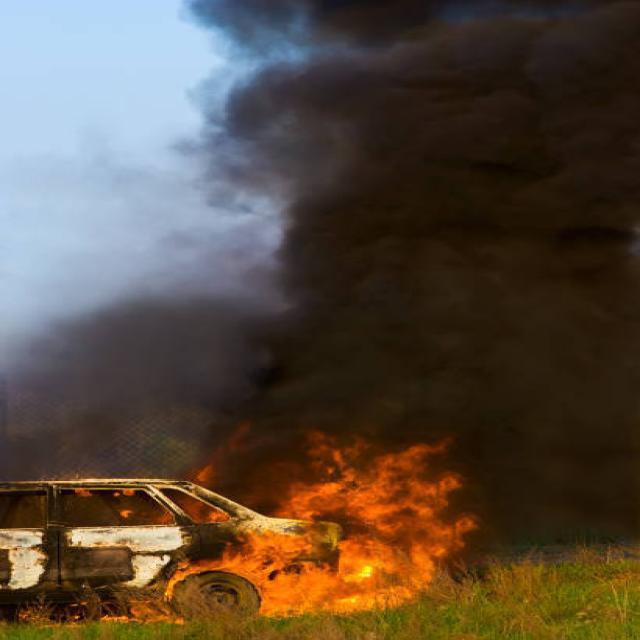Fire: (178, 424, 484, 602)
Smoke: (203, 0, 640, 542), (0, 285, 310, 462)
